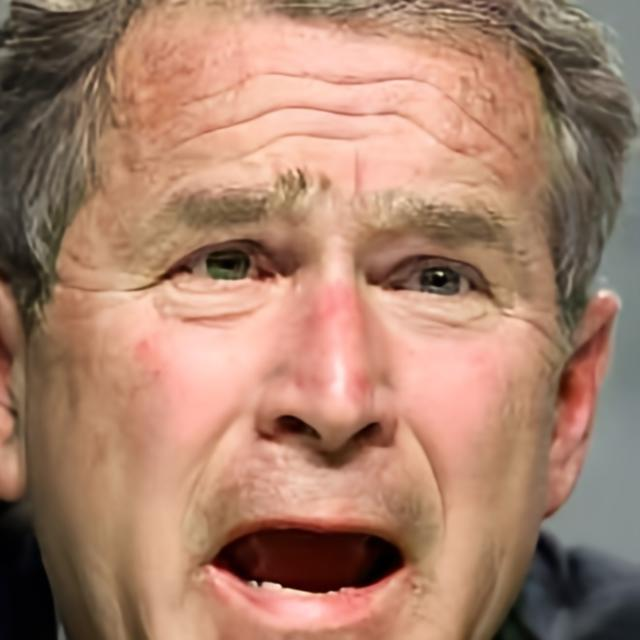fear: (28, 0, 571, 640)
